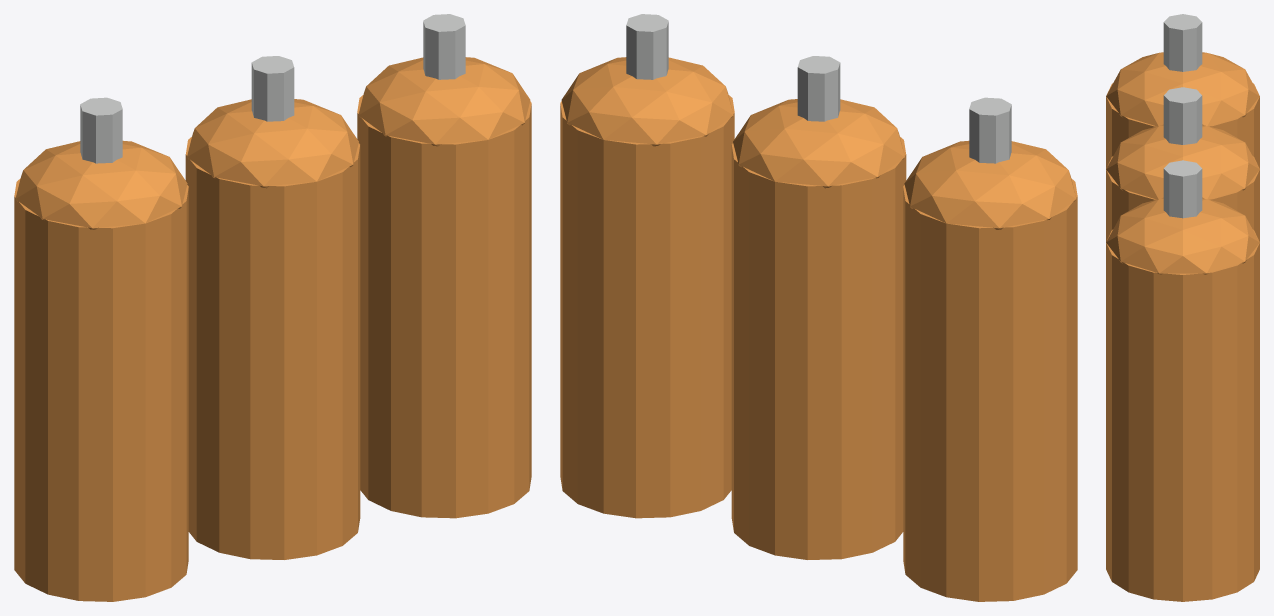
The model's file is gas_cylinders.glb.
The picture shows the model from 3 angles, left to right: view 1: azimuth 30°, elevation 25°; view 2: azimuth 150°, elevation 25°; view 3: azimuth 270°, elevation 25°; orthographic projection. The views are drawn at different scales.
Parts seen in each view (by area): view 1: gas_cylinders; view 2: gas_cylinders; view 3: gas_cylinders.
Part boxes in pixels (x1,y1,x2,y2): gas_cylinders: (14,14,531,601); gas_cylinders: (560,14,1077,601); gas_cylinders: (1106,14,1259,601).
Size of the model in its own units: 1.04 by 0.92 by 0.32.
